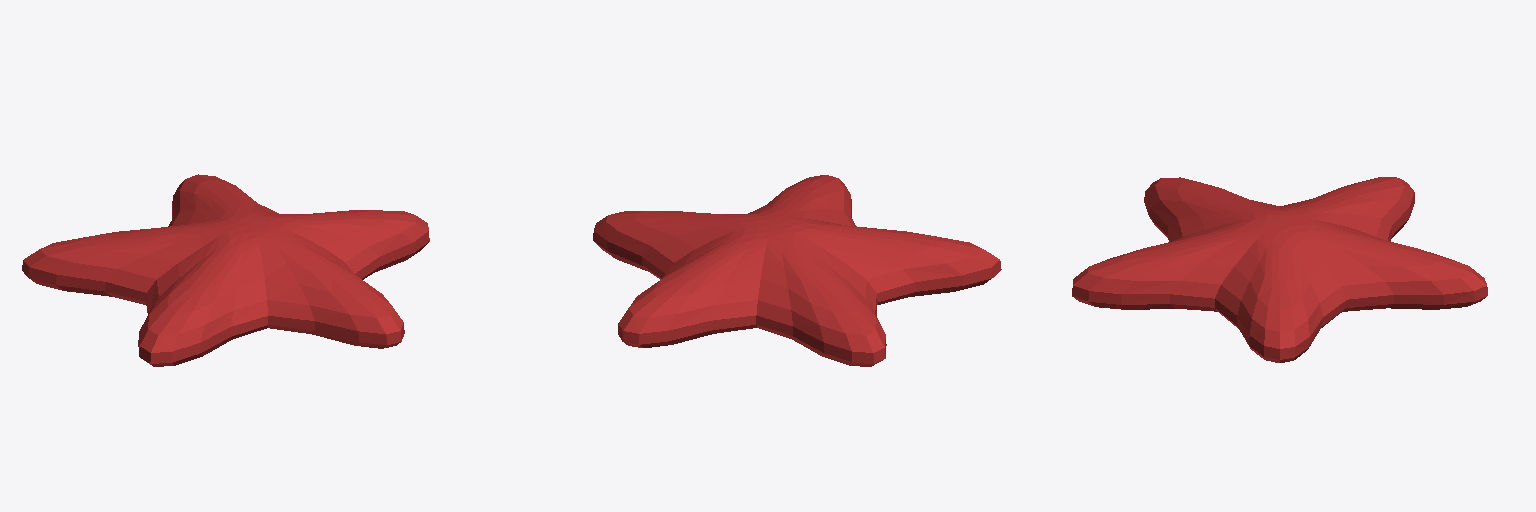
Rendered from SeastarHiPoly.obj.
3 views of the same model, side by side, from view 1: azimuth 30°, elevation 25°; view 2: azimuth 150°, elevation 25°; view 3: azimuth 270°, elevation 25° (orthographic).
Visible parts, largest first — view 1: pCylinder1; view 2: pCylinder1; view 3: pCylinder1.
Part boxes in pixels (x1,y1,x2,y2): pCylinder1: (22, 174, 429, 366); pCylinder1: (593, 175, 1001, 366); pCylinder1: (1072, 177, 1487, 362).
Bounding box in the file's own units: 3.24 × 0.5694 × 3.38.